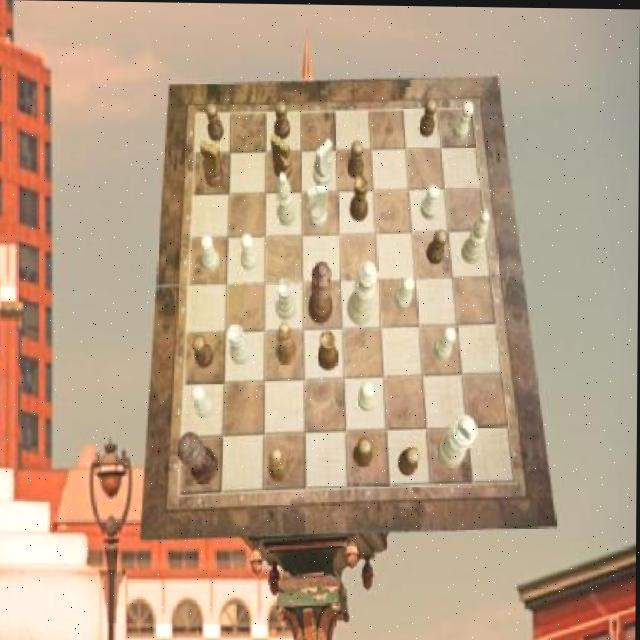bishop: (276, 320, 298, 364), (269, 448, 292, 483)
black-bishop: (179, 433, 220, 486)
black-king: (200, 139, 225, 186), (271, 134, 294, 180)
black-knight: (426, 226, 447, 263), (207, 102, 225, 143), (419, 97, 437, 136), (195, 333, 215, 367), (348, 139, 365, 178), (399, 445, 420, 476), (275, 100, 291, 139), (354, 435, 373, 466)
black-pawn: (309, 260, 333, 323)
black-queen: (318, 330, 339, 370), (351, 174, 369, 220)
black-rook: (463, 210, 491, 264), (277, 172, 298, 226)
white-bishop: (437, 413, 478, 468)
white-king: (306, 182, 327, 228), (314, 137, 334, 185)
white-knight: (453, 99, 474, 140), (435, 325, 458, 360), (192, 384, 215, 418), (394, 275, 415, 309), (241, 232, 259, 270), (202, 233, 219, 271), (422, 184, 440, 218), (359, 380, 377, 411)
white-pawn: (347, 260, 378, 324)
white-queen: (228, 323, 253, 365), (277, 278, 298, 320)
